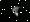person: (13, 5, 22, 20)
